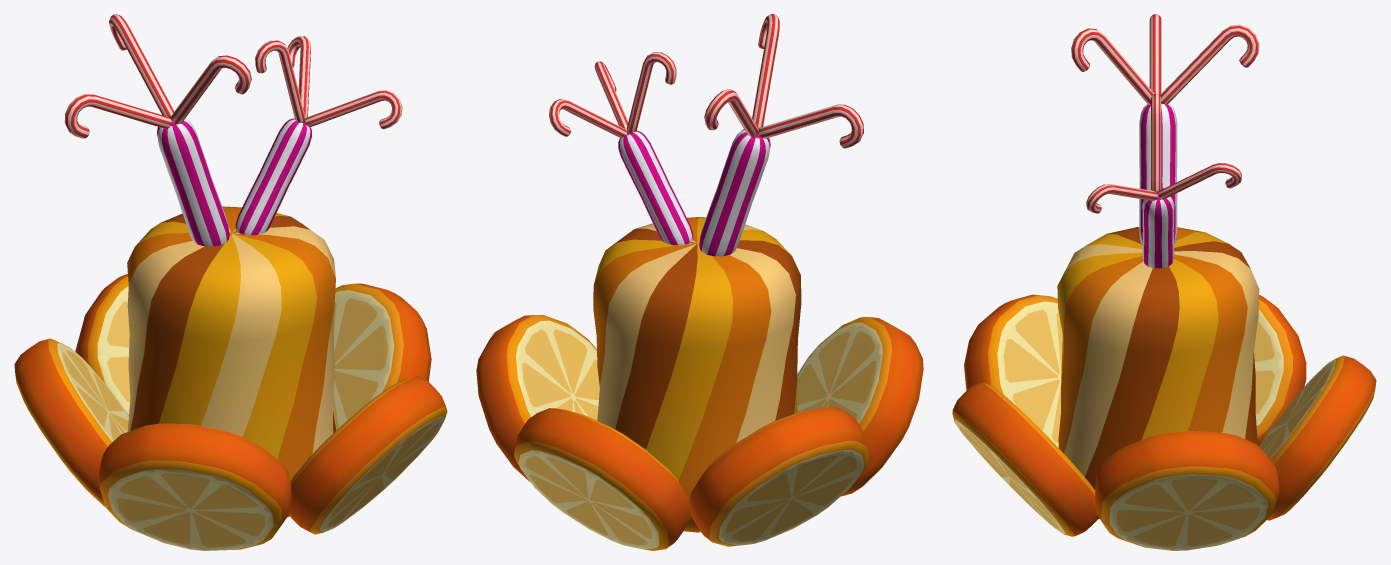
File: cw_PlantsFlowers_3.fbx
3 renders of one model, left to right at view 1: azimuth 30°, elevation 25°; view 2: azimuth 150°, elevation 25°; view 3: azimuth 270°, elevation 25°, orthographic. The views are drawn at different scales.
Parts seen in each view (by area): view 1: cw_pf_3; view 2: cw_pf_3; view 3: cw_pf_3.
Boxes of the visible parts, box(x1,y1,x2,y2) form: cw_pf_3: box(14, 14, 447, 550); cw_pf_3: box(476, 14, 923, 550); cw_pf_3: box(952, 14, 1376, 550).
Size of the model in its own units: 155 by 189 by 159.
